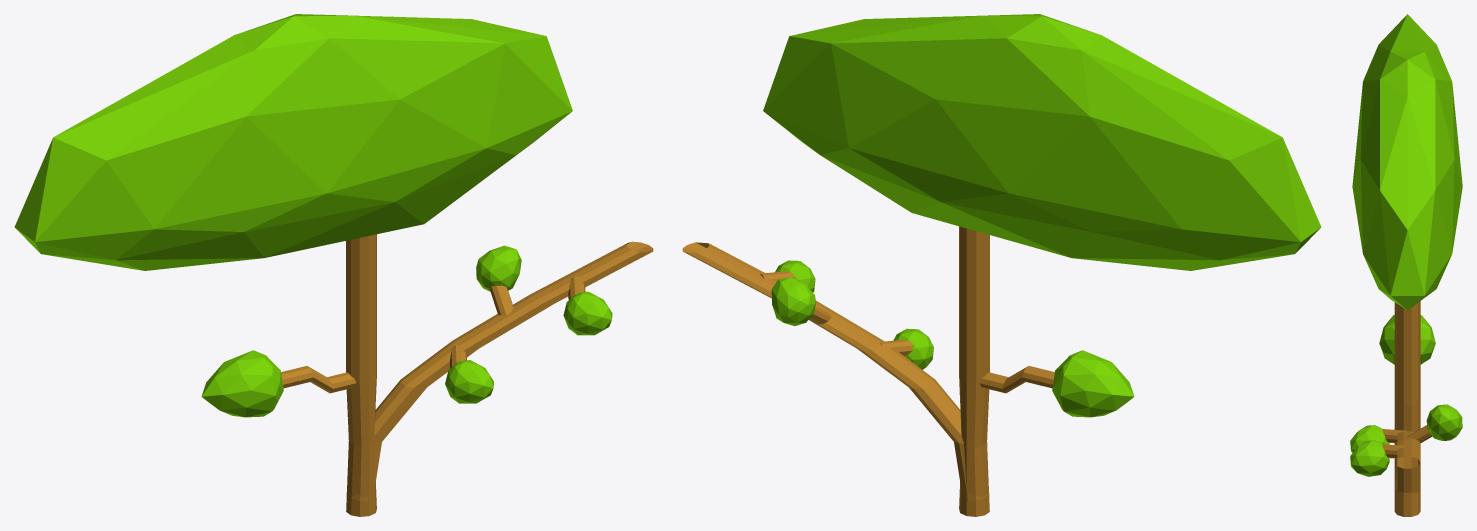
The model's file is Arbre_Geant.fbx.
3 views of the same model, side by side, from view 1: azimuth 30°, elevation 25°; view 2: azimuth 150°, elevation 25°; view 3: azimuth 270°, elevation 25° (orthographic). The views are drawn at different scales.
Visible parts, largest first — view 1: Icosphere, Cylinder, Cylinder_002, Icosphere_001, Icosphere_004, Icosphere_003, Icosphere_002, Cylinder_001; view 2: Icosphere, Cylinder, Cylinder_002, Icosphere_001, Icosphere_002, Cylinder_001, Icosphere_003; view 3: Icosphere, Cylinder, Cylinder_002, Icosphere_004, Icosphere_001, Icosphere_002, Icosphere_003, Cylinder_003, Cylinder_005, Cylinder_004.
Part boxes in pixels (x1,y1,x2,y2): Icosphere: (14,14,572,270); Cylinder: (346,234,376,516); Cylinder_002: (346,241,653,501); Icosphere_001: (201,350,283,417); Icosphere_004: (563,291,612,335); Icosphere_003: (445,360,493,403); Icosphere_002: (476,245,521,291); Cylinder_001: (281,366,356,393); Icosphere: (763,14,1321,270); Cylinder: (959,226,989,516); Cylinder_002: (682,242,989,501); Icosphere_001: (1052,350,1134,417); Icosphere_002: (771,277,815,325); Cylinder_001: (979,366,1054,393); Icosphere_003: (893,328,933,369); Icosphere: (1352,14,1462,310); Cylinder: (1394,301,1420,516); Cylinder_002: (1395,431,1420,493); Icosphere_004: (1350,440,1389,476); Icosphere_001: (1379,315,1435,364); Icosphere_002: (1426,404,1462,440); Icosphere_003: (1350,425,1389,452); Cylinder_003: (1406,425,1432,442); Cylinder_005: (1382,444,1407,458); Cylinder_004: (1382,429,1407,443).
Size of the model in its own units: 23.37 by 18.21 by 4.38.
